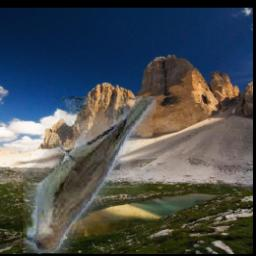Cuckoo: (24, 97, 157, 254)
